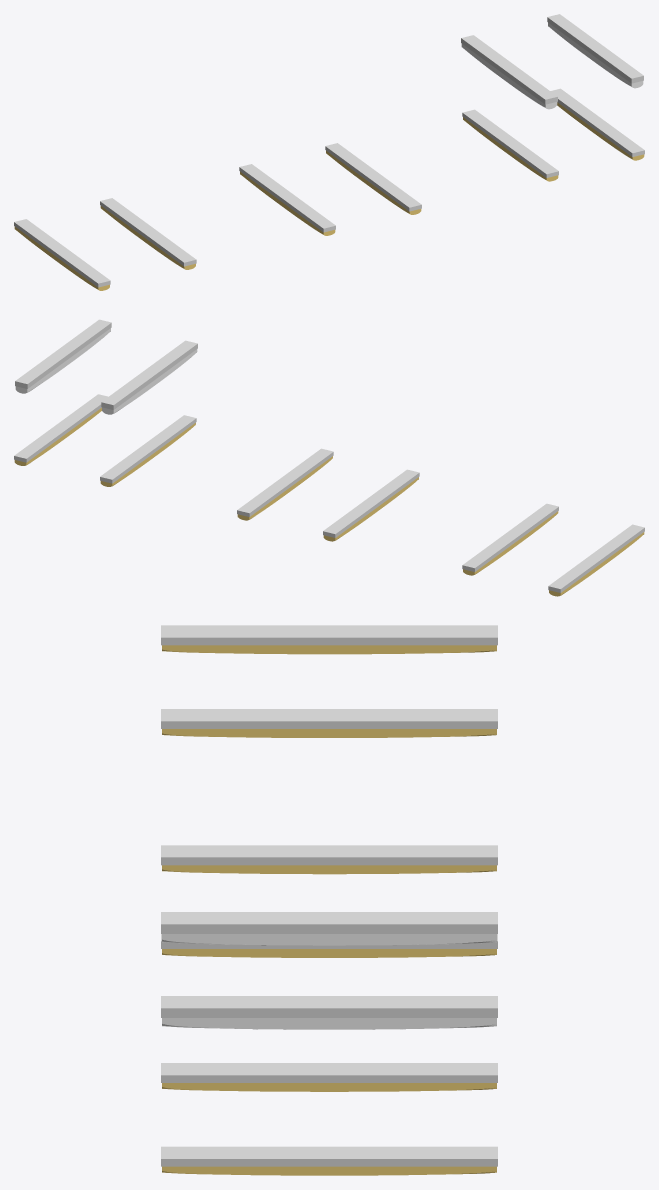
The model's file is light1-on.glb.
The picture shows the model from 3 angles, top to bottom: view 1: azimuth 30°, elevation 25°; view 2: azimuth 150°, elevation 25°; view 3: azimuth 270°, elevation 25°; orthographic projection. The views are drawn at different scales.
Parts seen in each view (by area): view 1: Cube.006, Cube.005, Cube.013, Cube.016, Cube.020, Cube.019, Cube.015, Cube.014; view 2: Cube.006, Cube.005, Cube.020, Cube.015, Cube.016, Cube.019, Cube.013, Cube.014; view 3: Cube.005, Cube.006, Cube.014, Cube.019, Cube.016, Cube.020, Cube.013, Cube.015.
Part boxes in pixels (<box>): Cube.006: <box>461,35,557,109</box>; Cube.005: <box>547,14,643,88</box>; Cube.013: <box>462,109,558,181</box>; Cube.016: <box>239,164,335,235</box>; Cube.020: <box>100,198,196,269</box>; Cube.019: <box>14,219,110,290</box>; Cube.015: <box>325,143,421,214</box>; Cube.014: <box>550,88,644,160</box>; Cube.006: <box>101,340,197,414</box>; Cube.005: <box>15,319,111,393</box>; Cube.020: <box>462,503,558,575</box>; Cube.015: <box>237,448,333,520</box>; Cube.016: <box>323,469,419,541</box>; Cube.019: <box>548,524,644,596</box>; Cube.013: <box>100,415,196,486</box>; Cube.014: <box>14,394,108,465</box>; Cube.005: <box>161,996,497,1029</box>; Cube.006: <box>161,912,497,945</box>; Cube.014: <box>161,1146,497,1175</box>; Cube.019: <box>161,625,497,654</box>; Cube.016: <box>161,845,497,874</box>; Cube.020: <box>161,709,497,737</box>; Cube.013: <box>161,1063,497,1091</box>; Cube.015: <box>161,934,497,957</box>.
Bounding box in the file's own units: 20.36 × 2.97 × 5.44.
